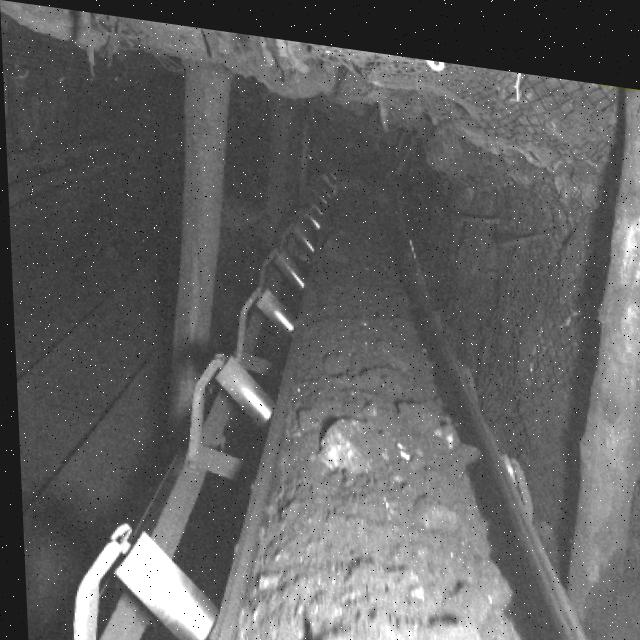large_sized_coal: (294, 590, 482, 640), (313, 405, 381, 466)
